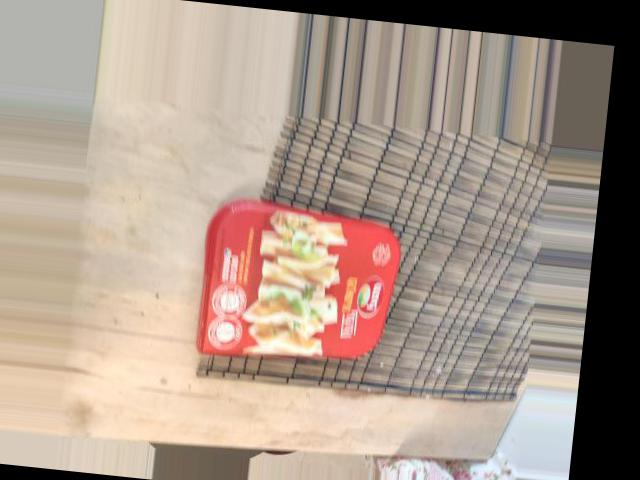cheese: (311, 142, 452, 350)
